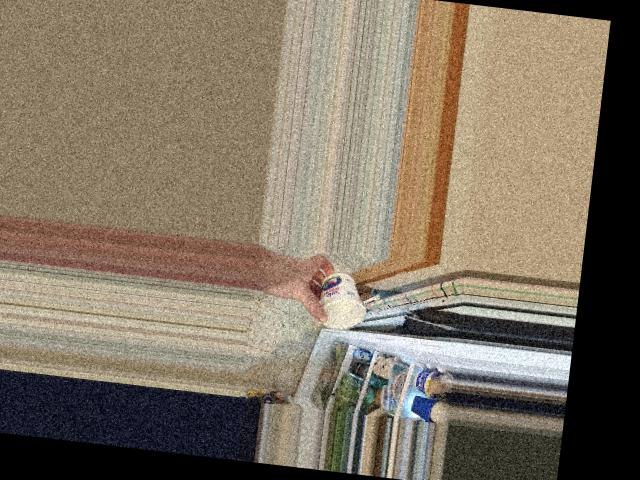cotage: (310, 271, 366, 320)
